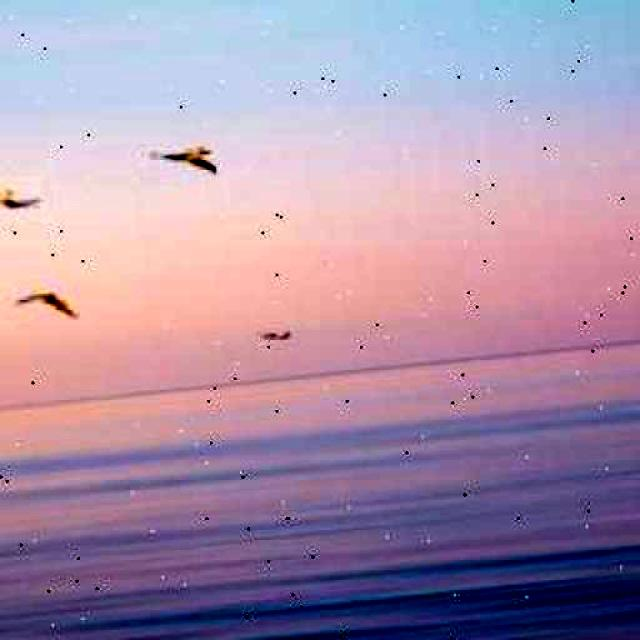airplane: (144, 142, 218, 181), (15, 288, 79, 326), (0, 174, 42, 214), (254, 329, 292, 345)
